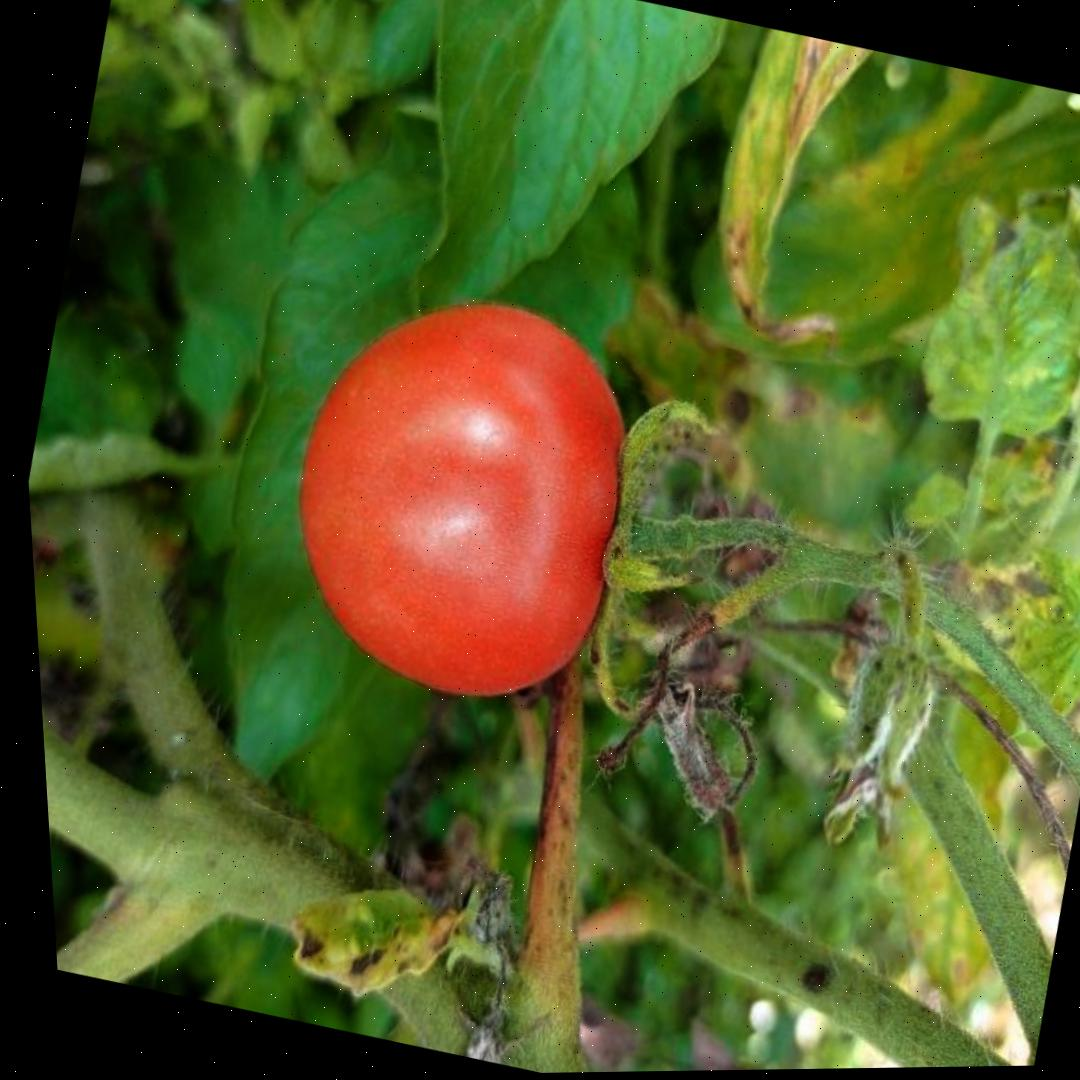setengah_matang: (242, 260, 681, 734)
